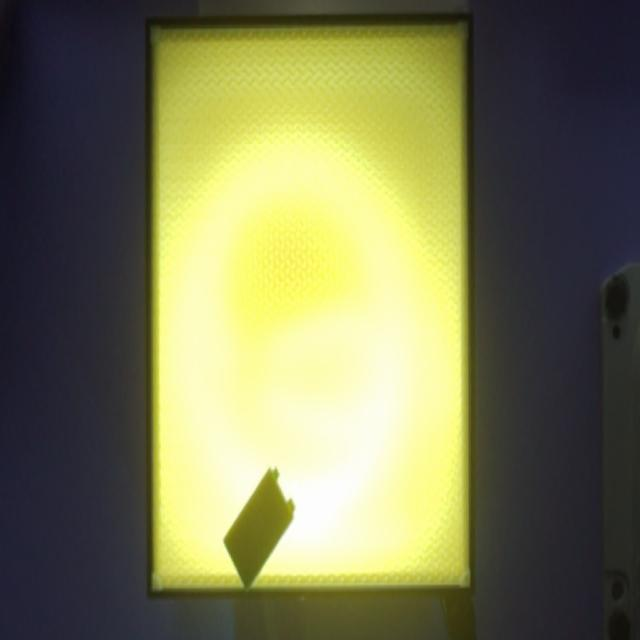bateria: (222, 466, 295, 591)
mesa: (146, 13, 474, 600)
